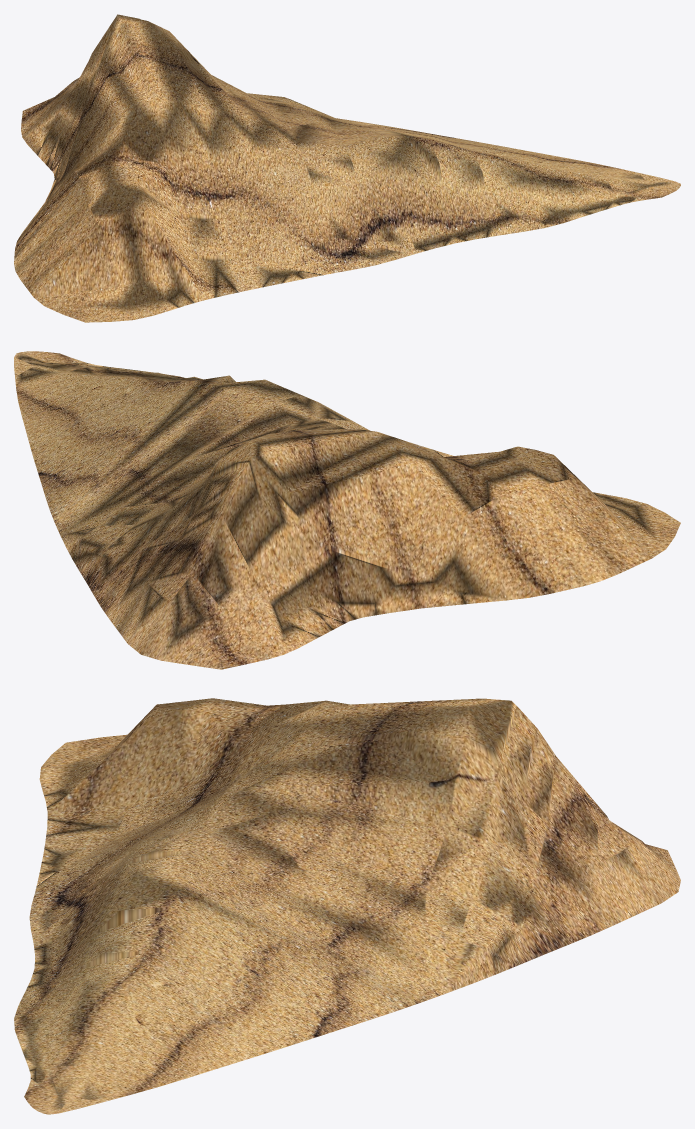
File: montana.obj
3 renders of one model, top to bottom at view 1: azimuth 30°, elevation 25°; view 2: azimuth 150°, elevation 25°; view 3: azimuth 270°, elevation 25°, orthographic. The views are drawn at different scales.
Visible parts, largest first — view 1: mountain; view 2: mountain; view 3: mountain.
Part boxes in pixels (box(x1,y1,x2,y2)): mountain: box(14, 14, 680, 322); mountain: box(14, 351, 680, 669); mountain: box(14, 698, 680, 1114).
Bounding box in the file's own units: 34.13 × 7.23 × 25.26.
